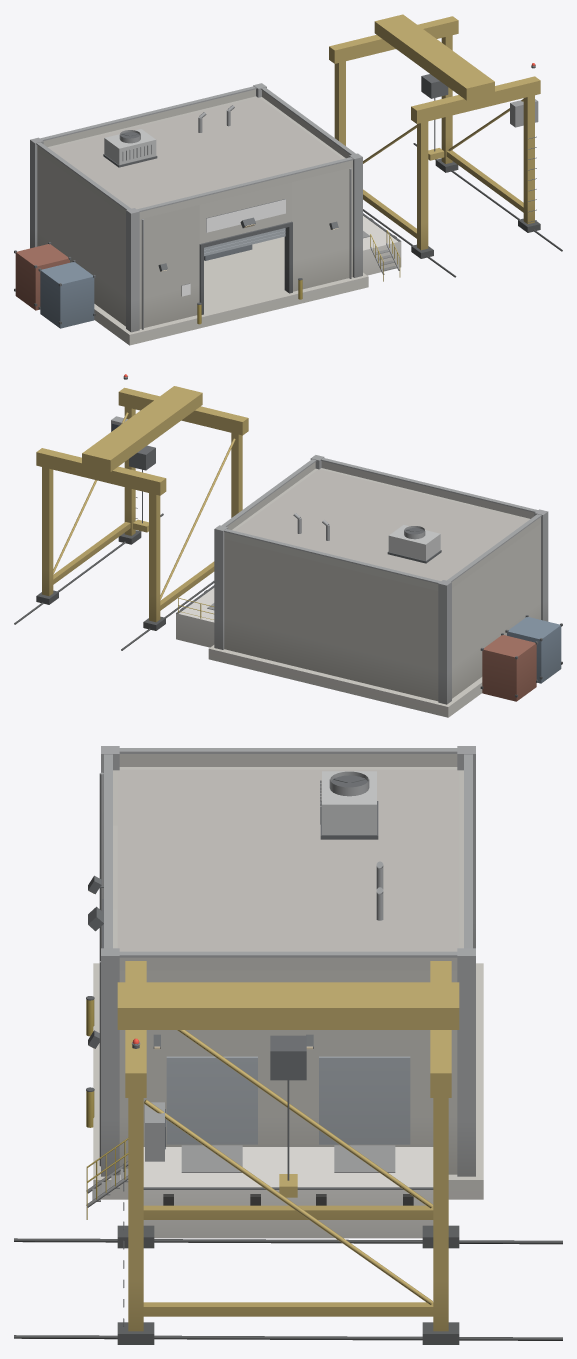
Rendered from depot.glb.
3 views of the same model, one above another, from view 1: azimuth 30°, elevation 25°; view 2: azimuth 150°, elevation 25°; view 3: azimuth 270°, elevation 25° (orthographic). The views are drawn at different scales.
Parts seen in each view (by area): view 1: depot; view 2: depot; view 3: depot.
Boxes of the visible parts, box(x1,y1,x2,y2) form: depot: box(14, 14, 562, 345); depot: box(14, 374, 562, 717); depot: box(14, 746, 562, 1344).
Bounding box in the file's own units: 32.47 × 11.61 × 18.
